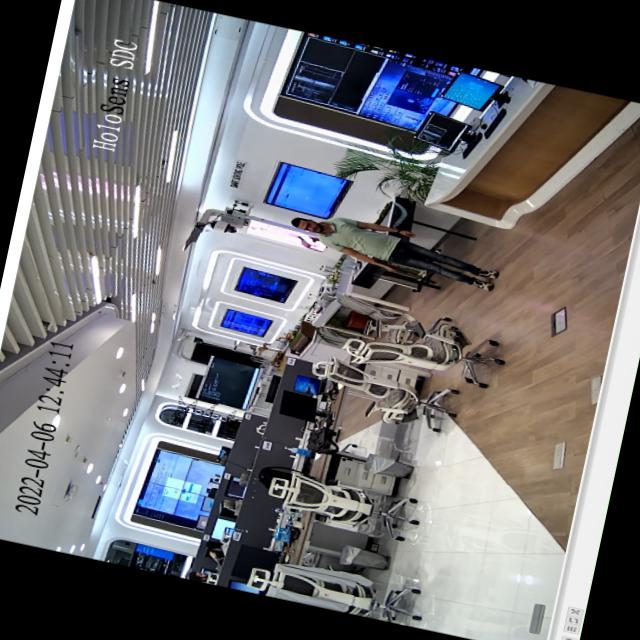long weapon: (363, 251, 452, 290)
